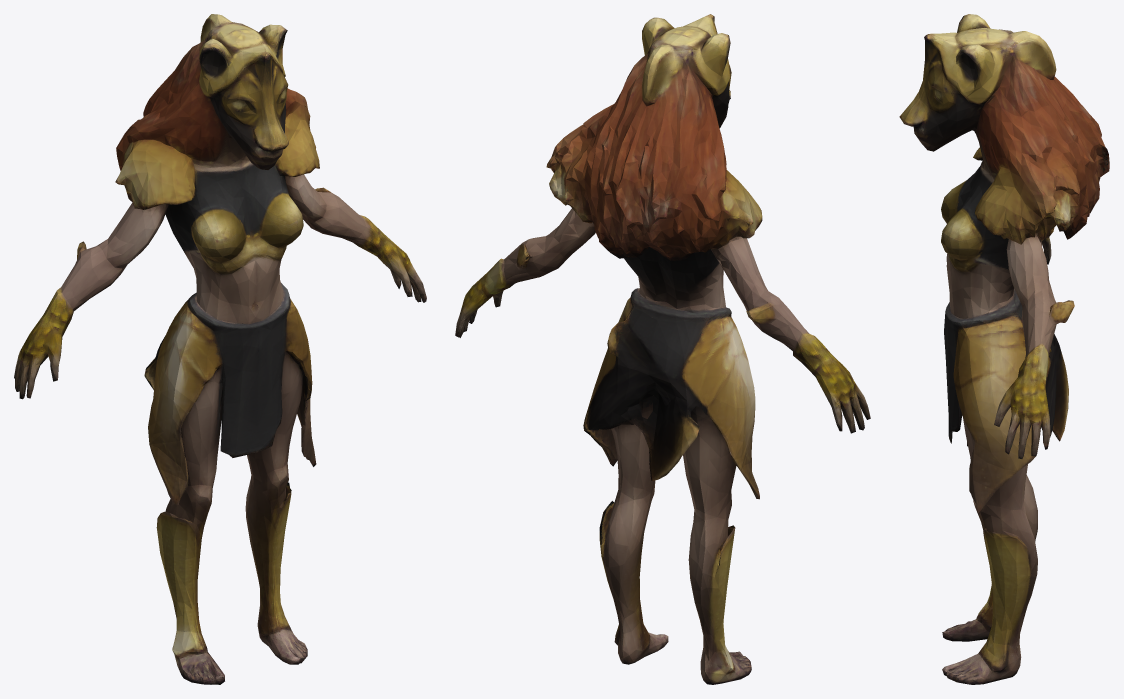
Rendered from StrengthRig01A.fbx.
The picture shows the model from 3 angles, left to right: view 1: azimuth 30°, elevation 25°; view 2: azimuth 150°, elevation 25°; view 3: azimuth 270°, elevation 25°; orthographic projection.
Parts seen in each view (by area): view 1: geometry_0; view 2: geometry_0; view 3: geometry_0.
Boxes of the visible parts, x1,y1,x2,y2 form: geometry_0: (14, 14, 426, 684); geometry_0: (455, 14, 870, 684); geometry_0: (899, 14, 1109, 684).
Bounding box in the file's own units: 1.38 × 2.09 × 0.6339.
Materials: 1 (1 with a texture image).
